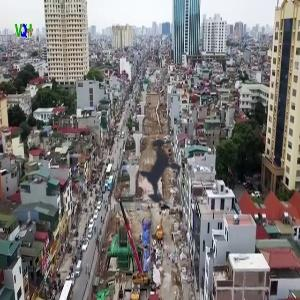drone: (106, 113, 219, 226)
